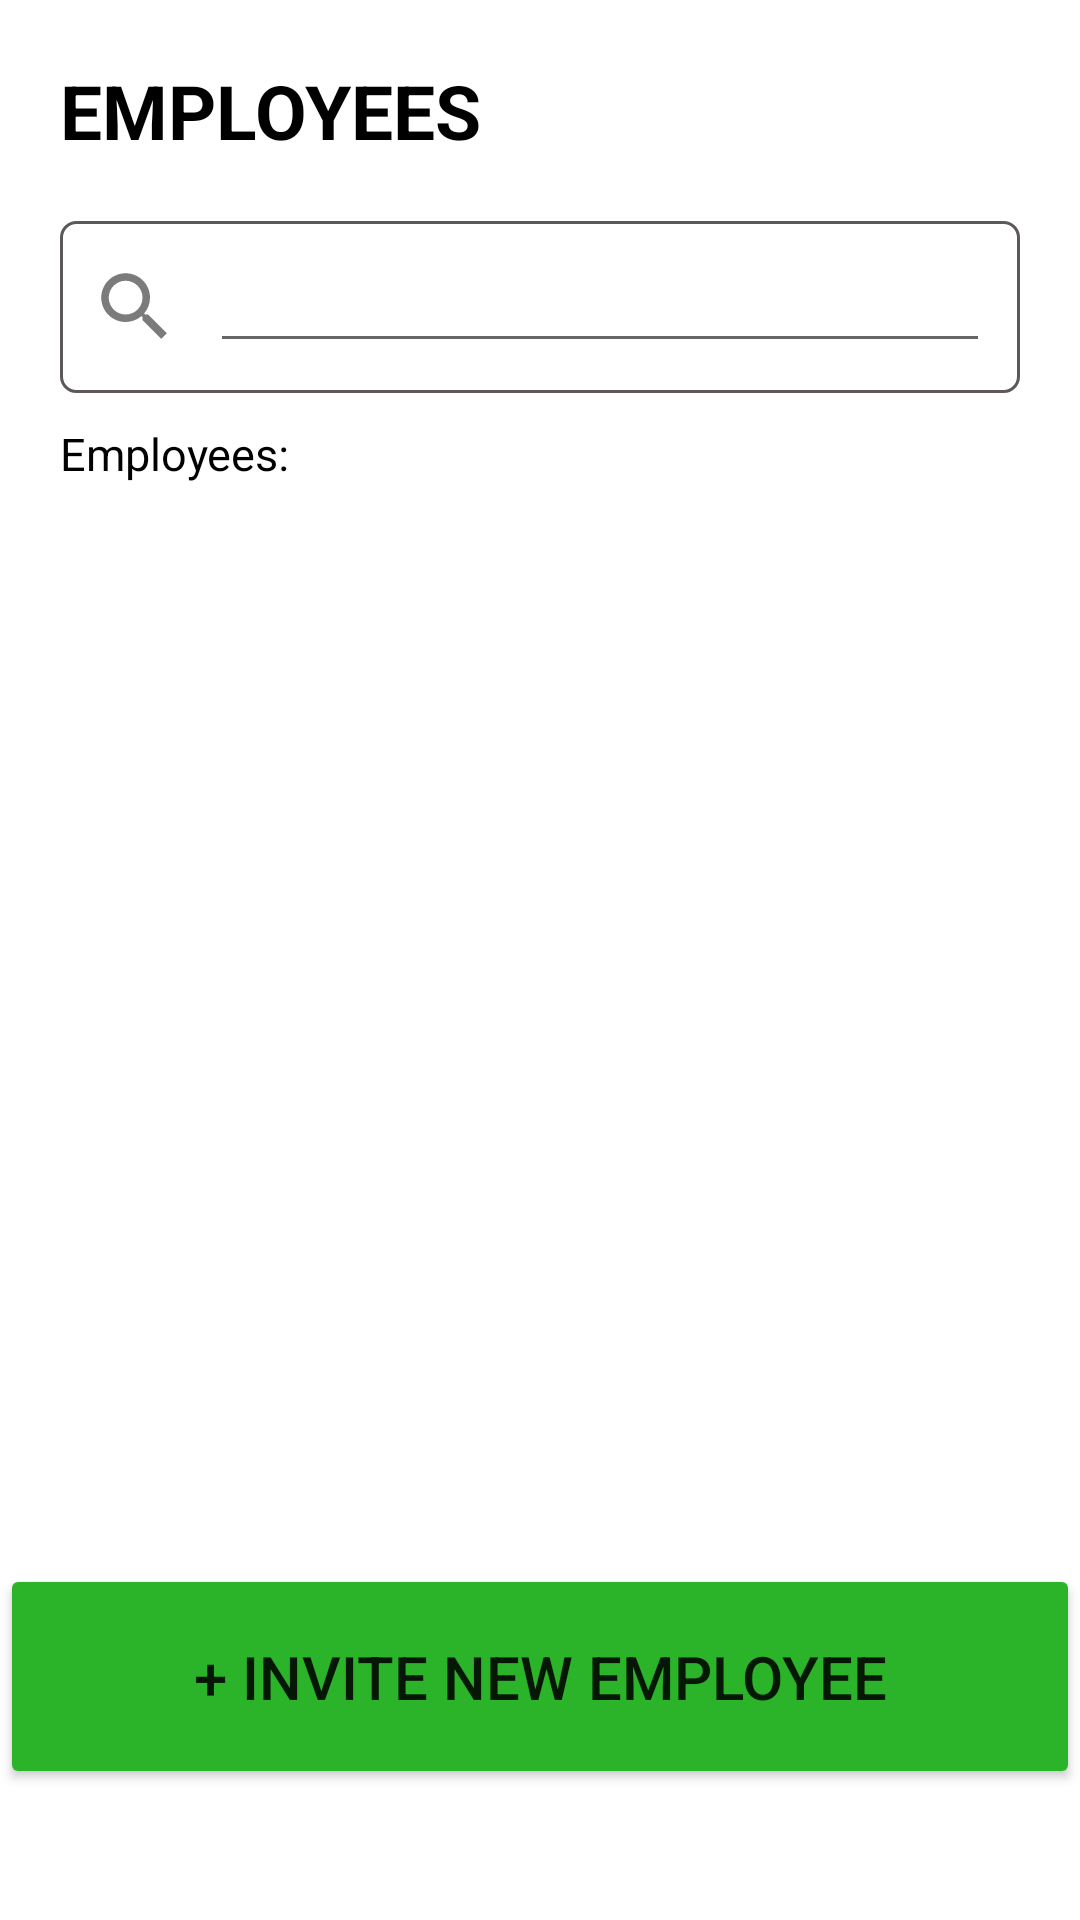

Icon click points for this 1080*1920 phone screenshot, format point (x, y):
search: point (134, 306)
